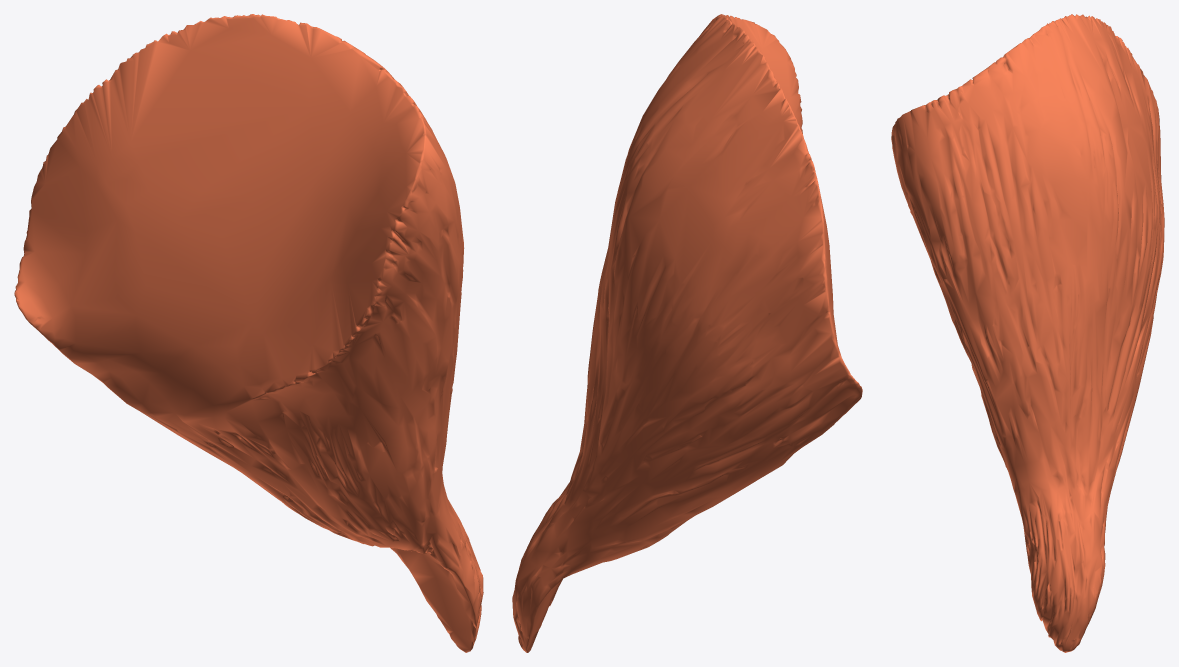
File: Gluteus_minimus_left.glb
3 renders of one model, left to right at view 1: azimuth 30°, elevation 25°; view 2: azimuth 150°, elevation 25°; view 3: azimuth 270°, elevation 25°, orthographic. The views are drawn at different scales.
Visible parts, largest first — view 1: Gluteus_minimus_muscle.l_Generated_Mesh_From_X3D.484; view 2: Gluteus_minimus_muscle.l_Generated_Mesh_From_X3D.484; view 3: Gluteus_minimus_muscle.l_Generated_Mesh_From_X3D.484.
Part boxes in pixels (x1,y1,x2,y2): Gluteus_minimus_muscle.l_Generated_Mesh_From_X3D.484: [14, 14, 483, 652]; Gluteus_minimus_muscle.l_Generated_Mesh_From_X3D.484: [512, 14, 862, 652]; Gluteus_minimus_muscle.l_Generated_Mesh_From_X3D.484: [891, 14, 1164, 652].
Size of the model in its own units: 0.0829 by 0.1345 by 0.0608.
